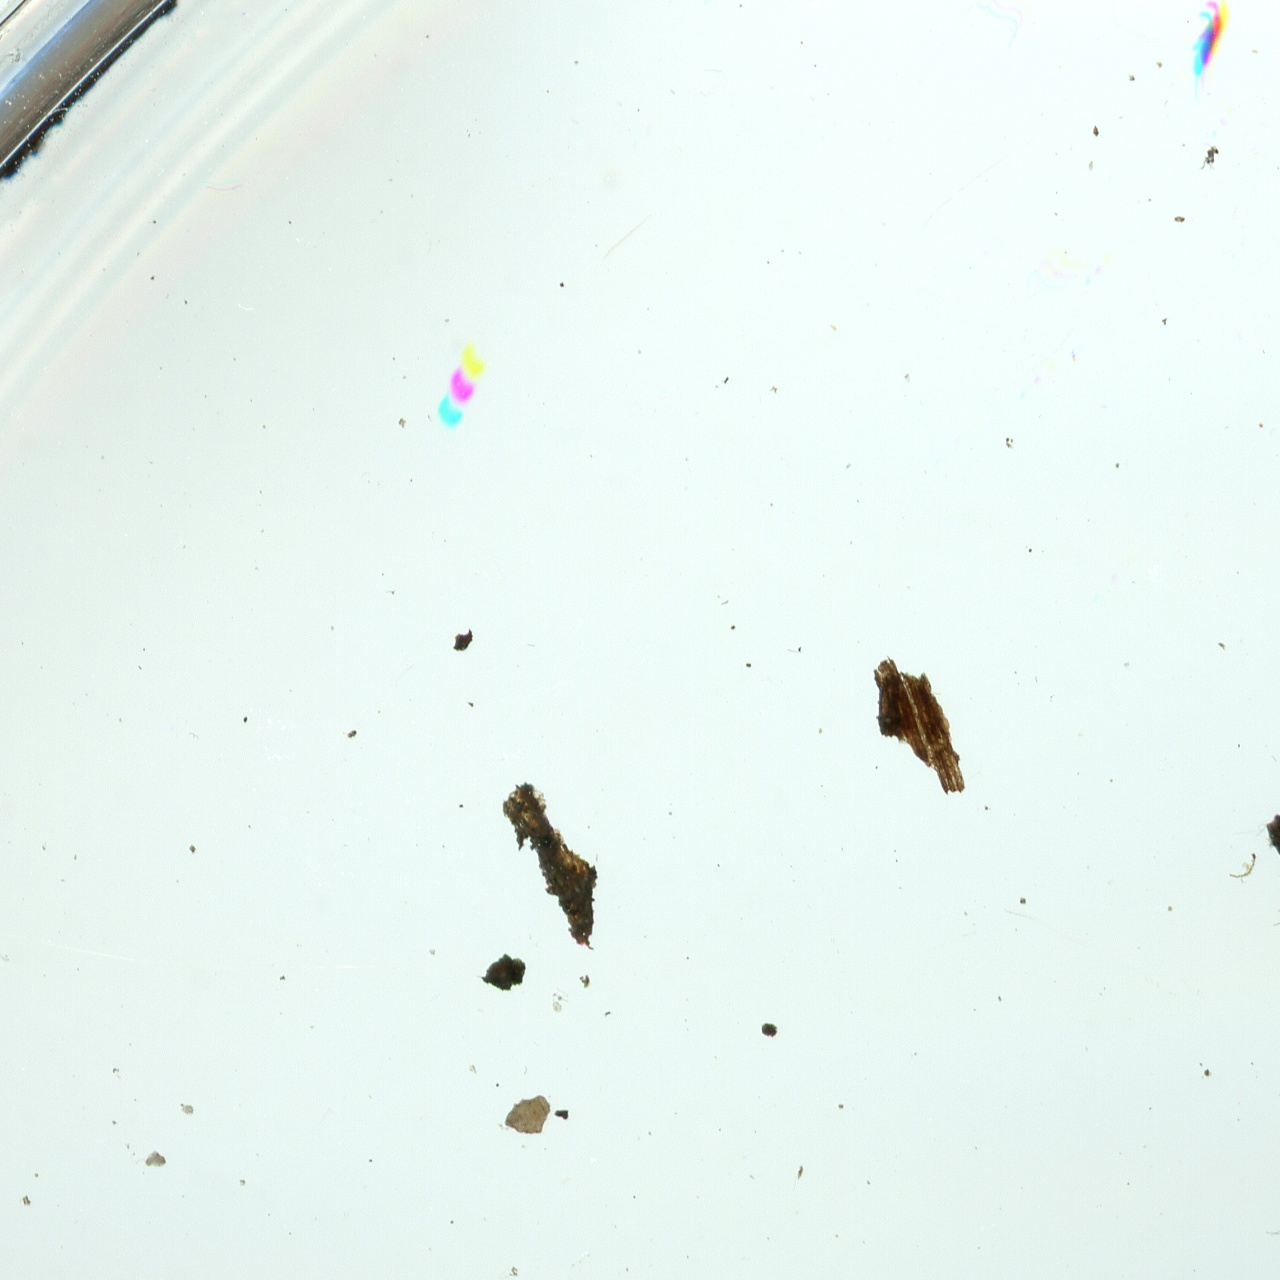arthropod: (1172, 0, 1239, 109)
